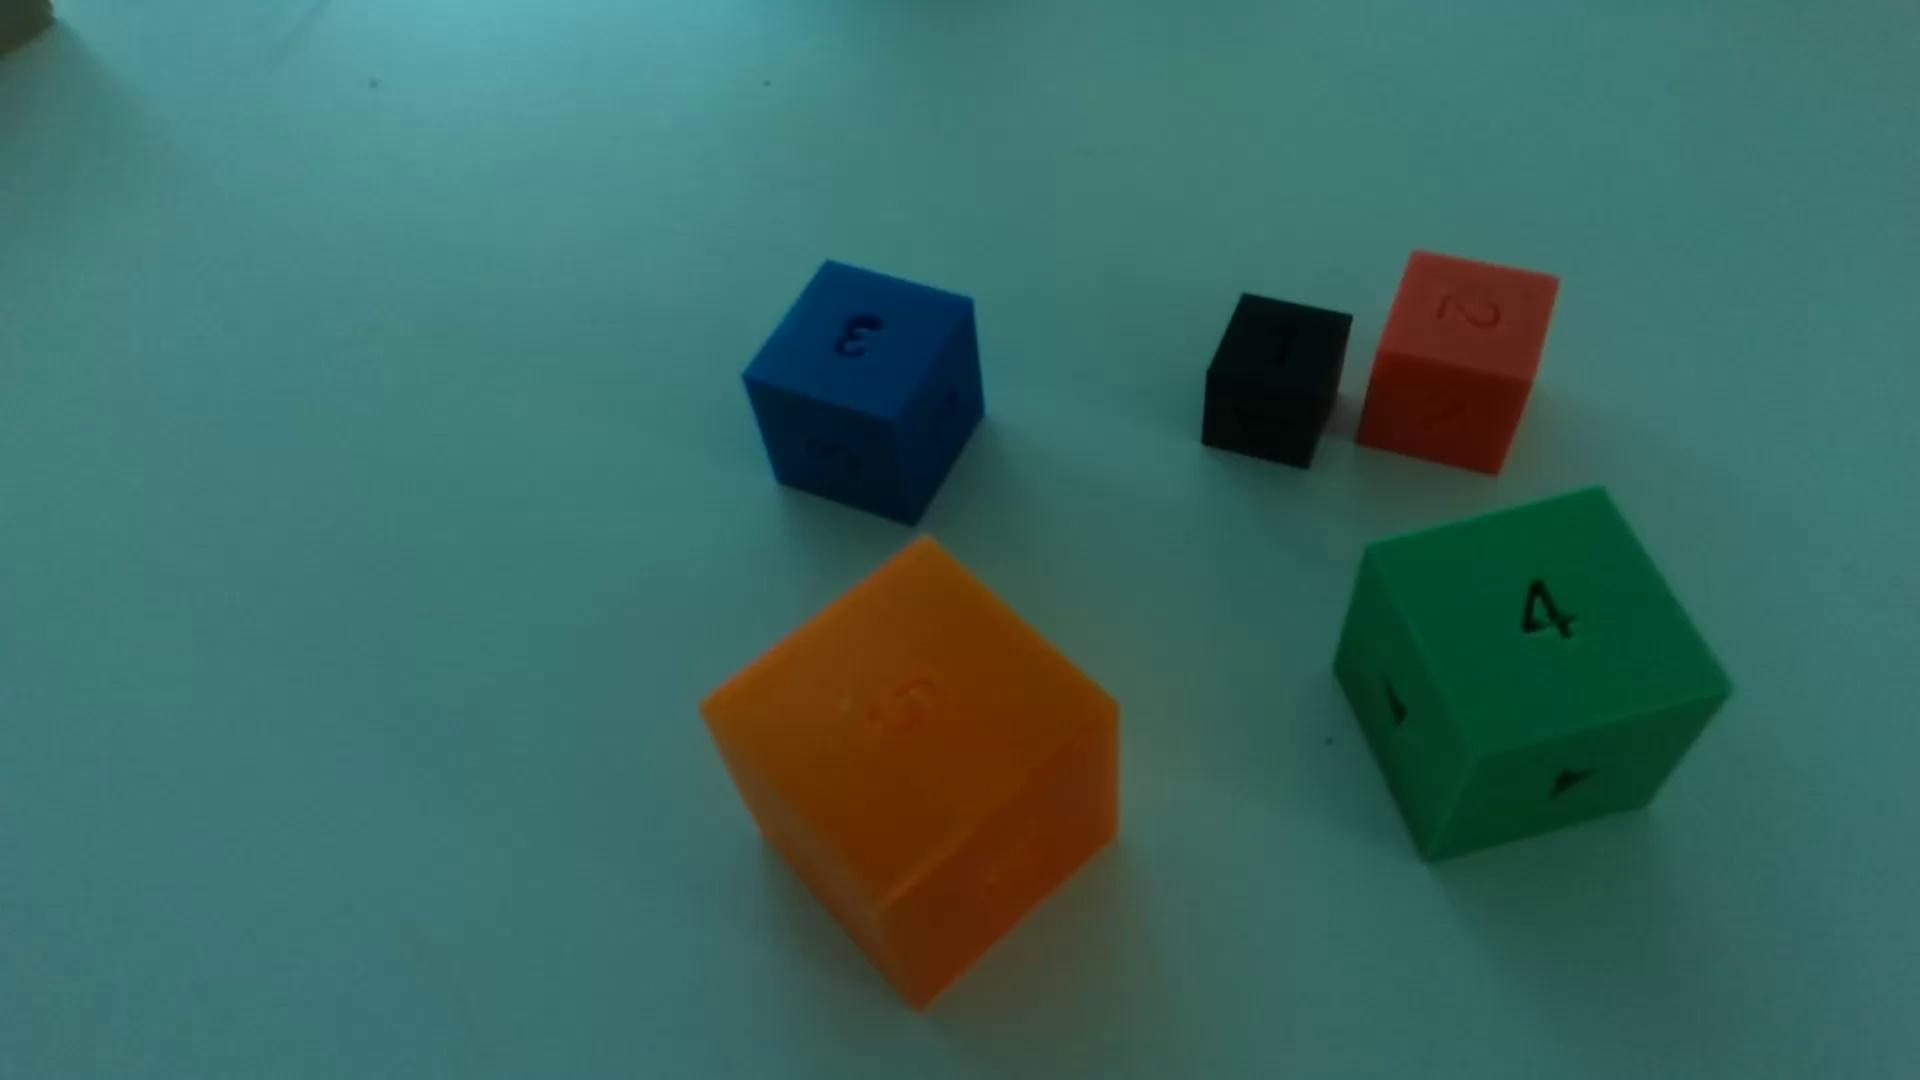black: (1201, 294, 1352, 469)
blue: (742, 262, 985, 527)
green: (1333, 489, 1730, 862)
orange: (700, 539, 1121, 1007)
red: (1356, 252, 1559, 477)
